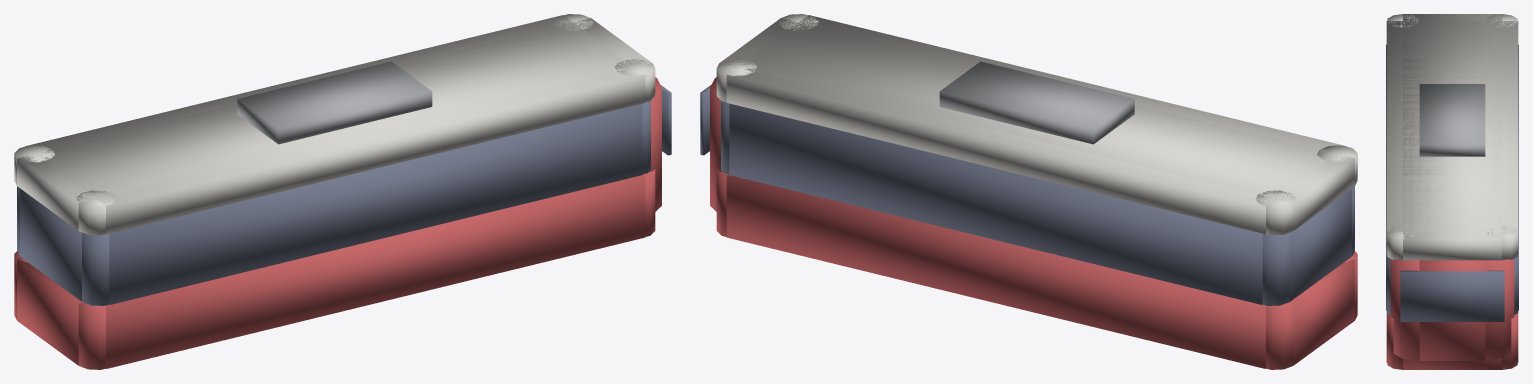
File: tram_cab.glb
3 renders of one model, left to right at view 1: azimuth 30°, elevation 25°; view 2: azimuth 150°, elevation 25°; view 3: azimuth 270°, elevation 25°, orthographic. The views are drawn at different scales.
Parts seen in each view (by area): view 1: tram_cab_2, tram_cab_1, tram_cab_0, tram_cab_3, tram_cab_4, tram_cab_5; view 2: tram_cab_2, tram_cab_1, tram_cab_0, tram_cab_3, tram_cab_4, tram_cab_5; view 3: tram_cab_2, tram_cab_4, tram_cab_5, tram_cab_3, tram_cab_0, tram_cab_1.
Part boxes in pixels (x1=…): tram_cab_2: x1=14, y1=14, x2=655, y2=235; tram_cab_1: x1=17, y1=101, x2=650, y2=305; tram_cab_0: x1=14, y1=169, x2=655, y2=369; tram_cab_3: x1=237, y1=61, x2=432, y2=144; tram_cab_4: x1=649, y1=77, x2=661, y2=211; tram_cab_5: x1=660, y1=85, x2=671, y2=155; tram_cab_2: x1=716, y1=14, x2=1357, y2=235; tram_cab_1: x1=721, y1=101, x2=1354, y2=305; tram_cab_0: x1=716, y1=169, x2=1357, y2=369; tram_cab_3: x1=939, y1=61, x2=1134, y2=144; tram_cab_4: x1=710, y1=77, x2=722, y2=211; tram_cab_5: x1=700, y1=85, x2=711, y2=155; tram_cab_2: x1=1386, y1=14, x2=1518, y2=260; tram_cab_4: x1=1390, y1=259, x2=1514, y2=360; tram_cab_5: x1=1400, y1=270, x2=1504, y2=321; tram_cab_3: x1=1419, y1=84, x2=1485, y2=156; tram_cab_0: x1=1386, y1=313, x2=1518, y2=369; tram_cab_1: x1=1386, y1=44, x2=1518, y2=314.
Bounding box in the file's own units: 9.99 × 2.87 × 2.42.
